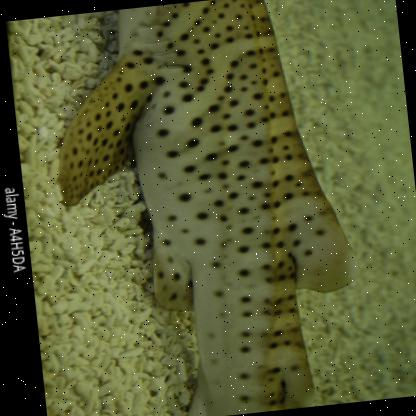zebra_shark: (43, 0, 376, 415)
